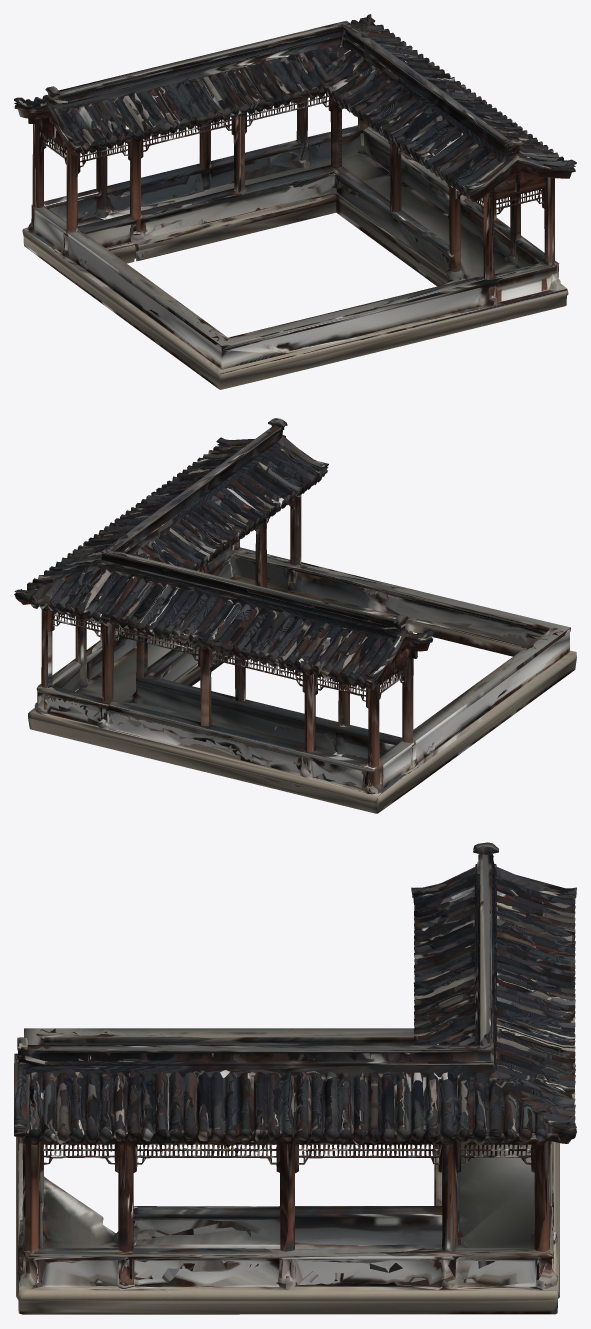
The model's file is corridorCorner-compressed.glb.
3 views of the same model, one above another, from view 1: azimuth 30°, elevation 25°; view 2: azimuth 150°, elevation 25°; view 3: azimuth 270°, elevation 25° (orthographic). The views are drawn at different scales.
Parts seen in each view (by area): view 1: node_0; view 2: node_0; view 3: node_0.
Part boxes in pixels (x1=…): node_0: x1=14, y1=14, x2=576, y2=389; node_0: x1=14, y1=418, x2=576, y2=813; node_0: x1=14, y1=842, x2=576, y2=1314.
Bounding box in the file's own units: 5.29 × 2.5 × 5.28.
1 material, 1 textured.
